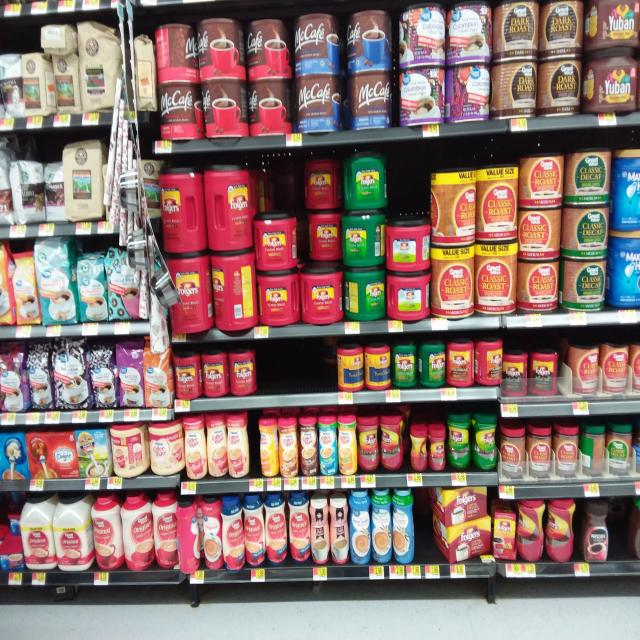void: (416, 496, 442, 588), (612, 502, 637, 586), (293, 342, 324, 404), (263, 345, 291, 411)
